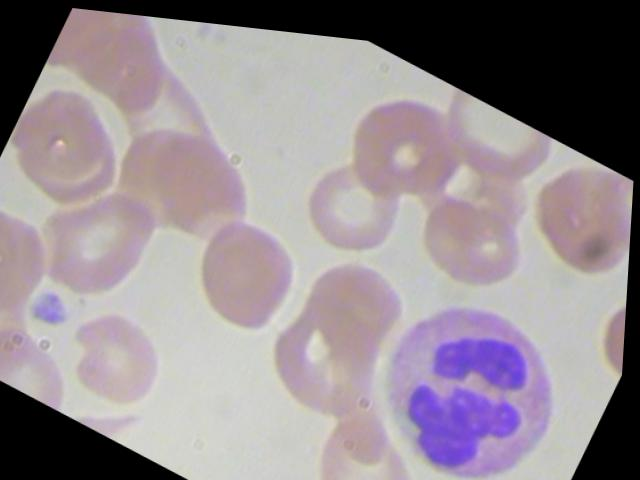Platelets: (22, 281, 84, 341)
Red Blood Cells: (5, 143, 181, 325), (0, 64, 151, 229), (331, 58, 485, 216), (175, 194, 320, 353), (51, 282, 194, 427), (508, 126, 635, 286), (404, 159, 546, 299), (286, 125, 423, 267), (292, 384, 447, 479), (0, 192, 70, 335), (422, 452, 560, 479)
White Blood Cells: (340, 247, 605, 479)
